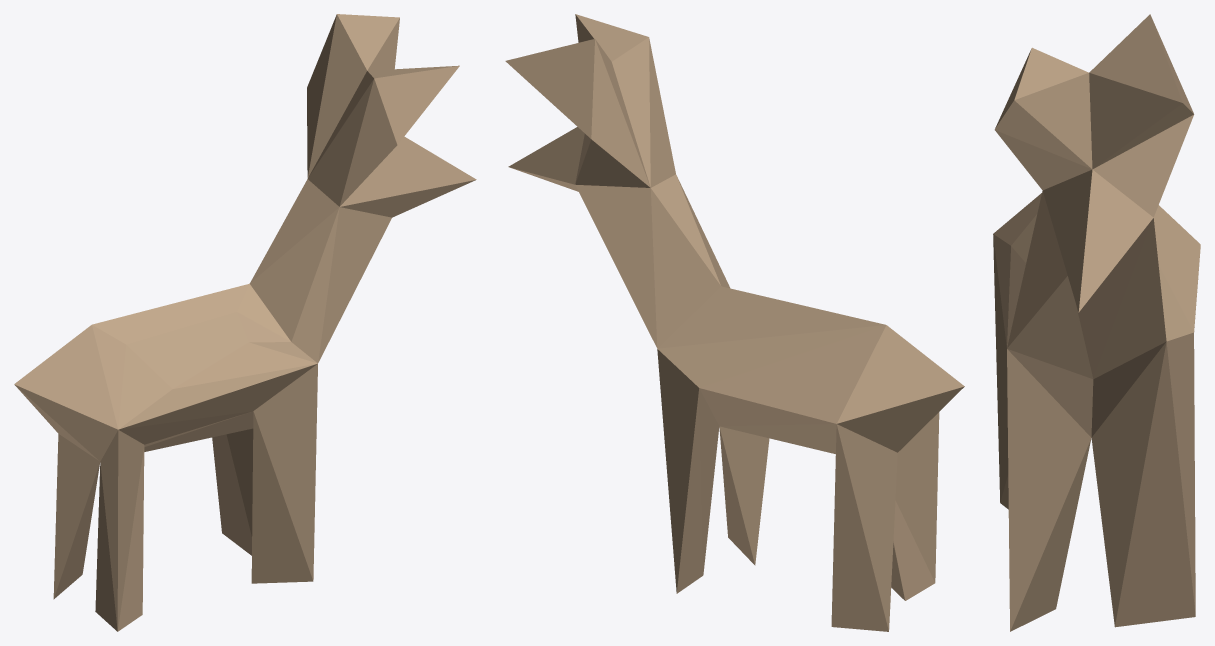
3 renders of one model, left to right at view 1: azimuth 30°, elevation 25°; view 2: azimuth 150°, elevation 25°; view 3: azimuth 270°, elevation 25°, orthographic. The views are drawn at different scales.
Parts seen in each view (by area): view 1: part0; view 2: part0; view 3: part0.
Part boxes in pixels (bbox=[...]): part0: bbox=[14, 14, 476, 631]; part0: bbox=[505, 14, 964, 631]; part0: bbox=[993, 14, 1200, 631].
Size of the model in its own units: 3.45 by 3.72 by 1.04.
